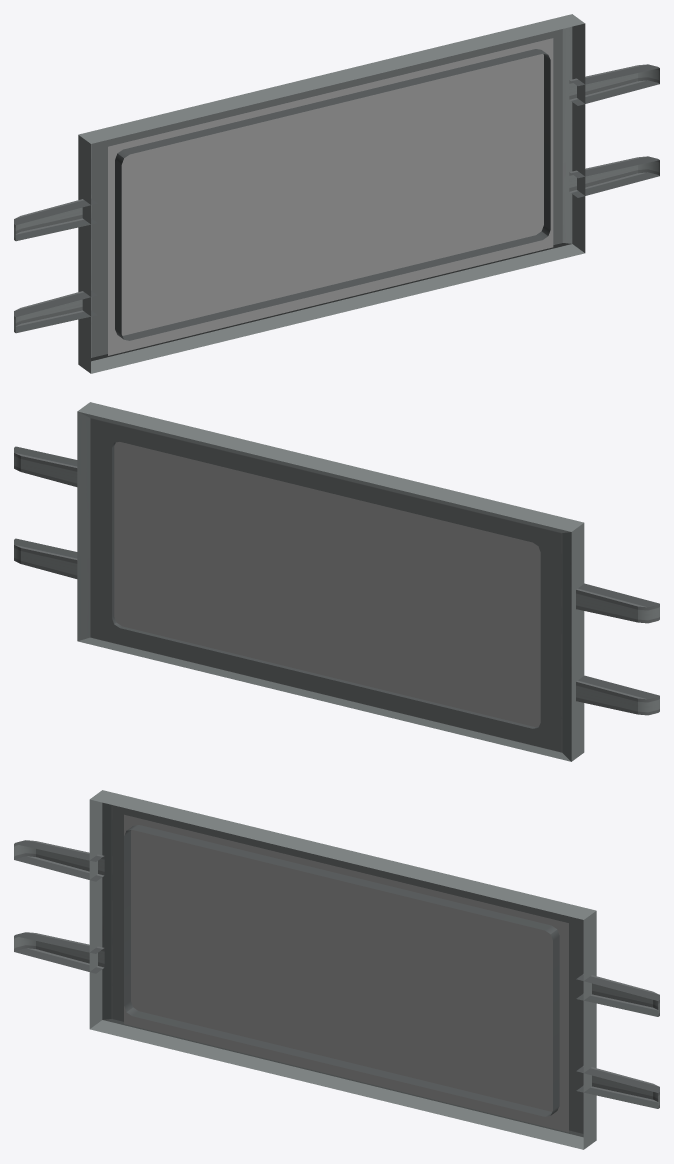
Rendered from Answer Board.fbx.
3 renders of one model, top to bottom at view 1: azimuth 30°, elevation 25°; view 2: azimuth 150°, elevation 25°; view 3: azimuth 330°, elevation 25°, orthographic.
Parts seen in each view (by area): view 1: pPlane1, pCube26, pCube30, pCube29, pCube28, pCube27; view 2: pPlane1, pCube26, pCube28, pCube27, pCube29, pCube30; view 3: pPlane1, pCube26, pCube27, pCube28, pCube29, pCube30.
Boxes of the visible parts, left/top/right/bottom form: pPlane1: left=108, top=38, right=553, bottom=355; pCube26: left=78, top=14, right=585, bottom=373; pCube30: left=569, top=156, right=659, bottom=197; pCube29: left=569, top=64, right=659, bottom=105; pCube28: left=14, top=198, right=97, bottom=241; pCube27: left=14, top=290, right=97, bottom=333; pPlane1: left=114, top=442, right=540, bottom=726; pCube26: left=77, top=402, right=584, bottom=761; pCube28: left=576, top=583, right=659, bottom=623; pCube27: left=576, top=675, right=659, bottom=715; pCube29: left=14, top=446, right=77, bottom=486; pCube30: left=14, top=538, right=77, bottom=578; pPlane1: left=124, top=814, right=568, bottom=1132; pCube26: left=89, top=790, right=596, bottom=1149; pCube27: left=14, top=932, right=104, bottom=973; pCube28: left=14, top=840, right=104, bottom=881; pCube29: left=576, top=974, right=659, bottom=1016; pCube30: left=576, top=1066, right=659, bottom=1108.
Bounding box in the file's own units: 1.59 × 0.5409 × 0.0556.
